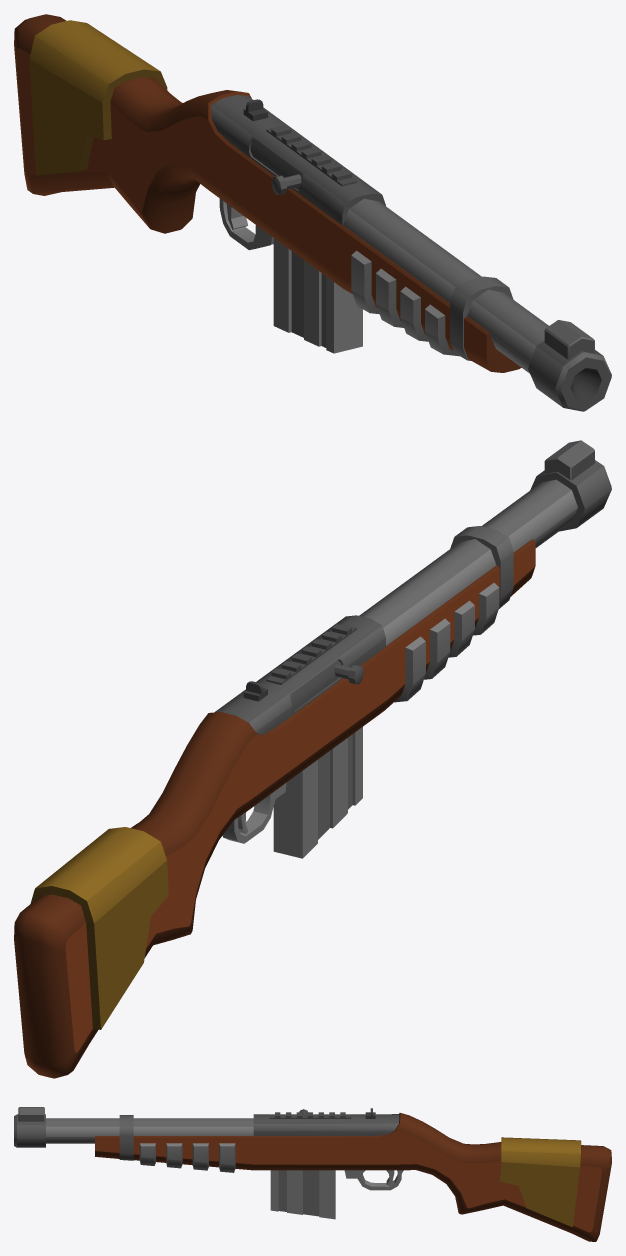
The model's file is Weapon_AR01_G2.fbx.
3 renders of one model, top to bottom at view 1: azimuth 30°, elevation 25°; view 2: azimuth 150°, elevation 25°; view 3: azimuth 270°, elevation 25°, orthographic. The views are drawn at different scales.
Parts seen in each view (by area): view 1: Weapon_AR01_G2; view 2: Weapon_AR01_G2; view 3: Weapon_AR01_G2.
Part boxes in pixels (x1,y1,x2,y2): Weapon_AR01_G2: [14, 14, 611, 411]; Weapon_AR01_G2: [14, 440, 611, 1078]; Weapon_AR01_G2: [14, 1107, 611, 1241].
Bounding box in the file's own units: 1.18 × 3.67 × 15.05.
